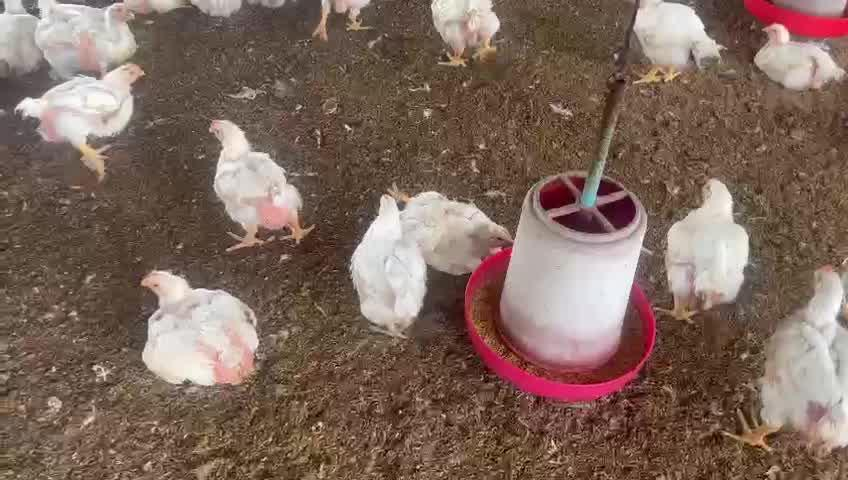AbNormal: (138, 266, 258, 388), (393, 182, 514, 254), (754, 21, 842, 92)
Normal: (731, 263, 844, 455), (206, 115, 313, 252), (16, 63, 144, 168), (662, 179, 750, 323), (351, 192, 428, 339), (33, 3, 140, 78), (635, 3, 723, 85), (426, 0, 503, 64), (313, 4, 375, 42)
